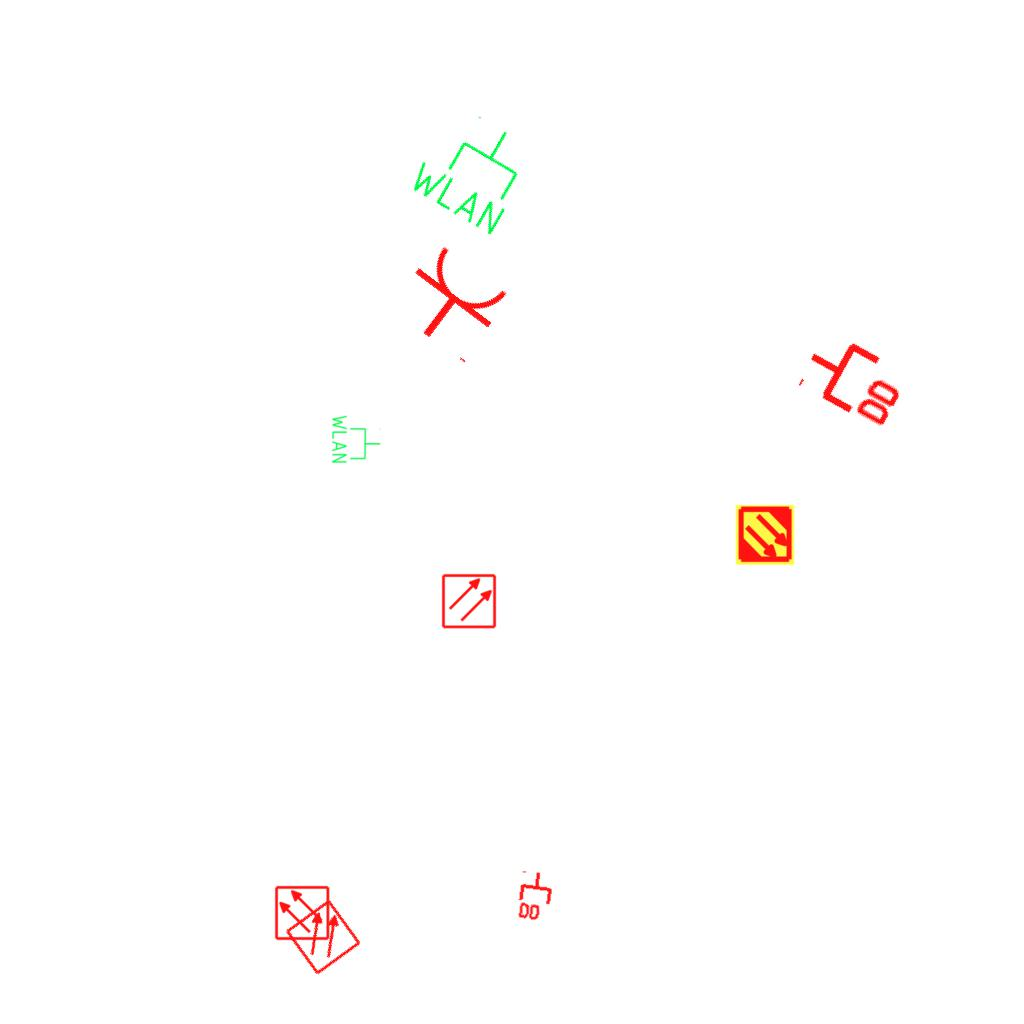ASR_Ansaugrauchmelder: (734, 504, 796, 566)
Datenanschluss_zweifach: (793, 323, 918, 434), (515, 868, 557, 925)
RMO_Rauchmelder_optischer: (283, 897, 363, 977), (274, 885, 330, 941), (441, 573, 497, 629)
Schukosteckdose_einfach: (386, 238, 519, 368)
WLAN: (401, 98, 545, 241), (330, 413, 382, 465)
